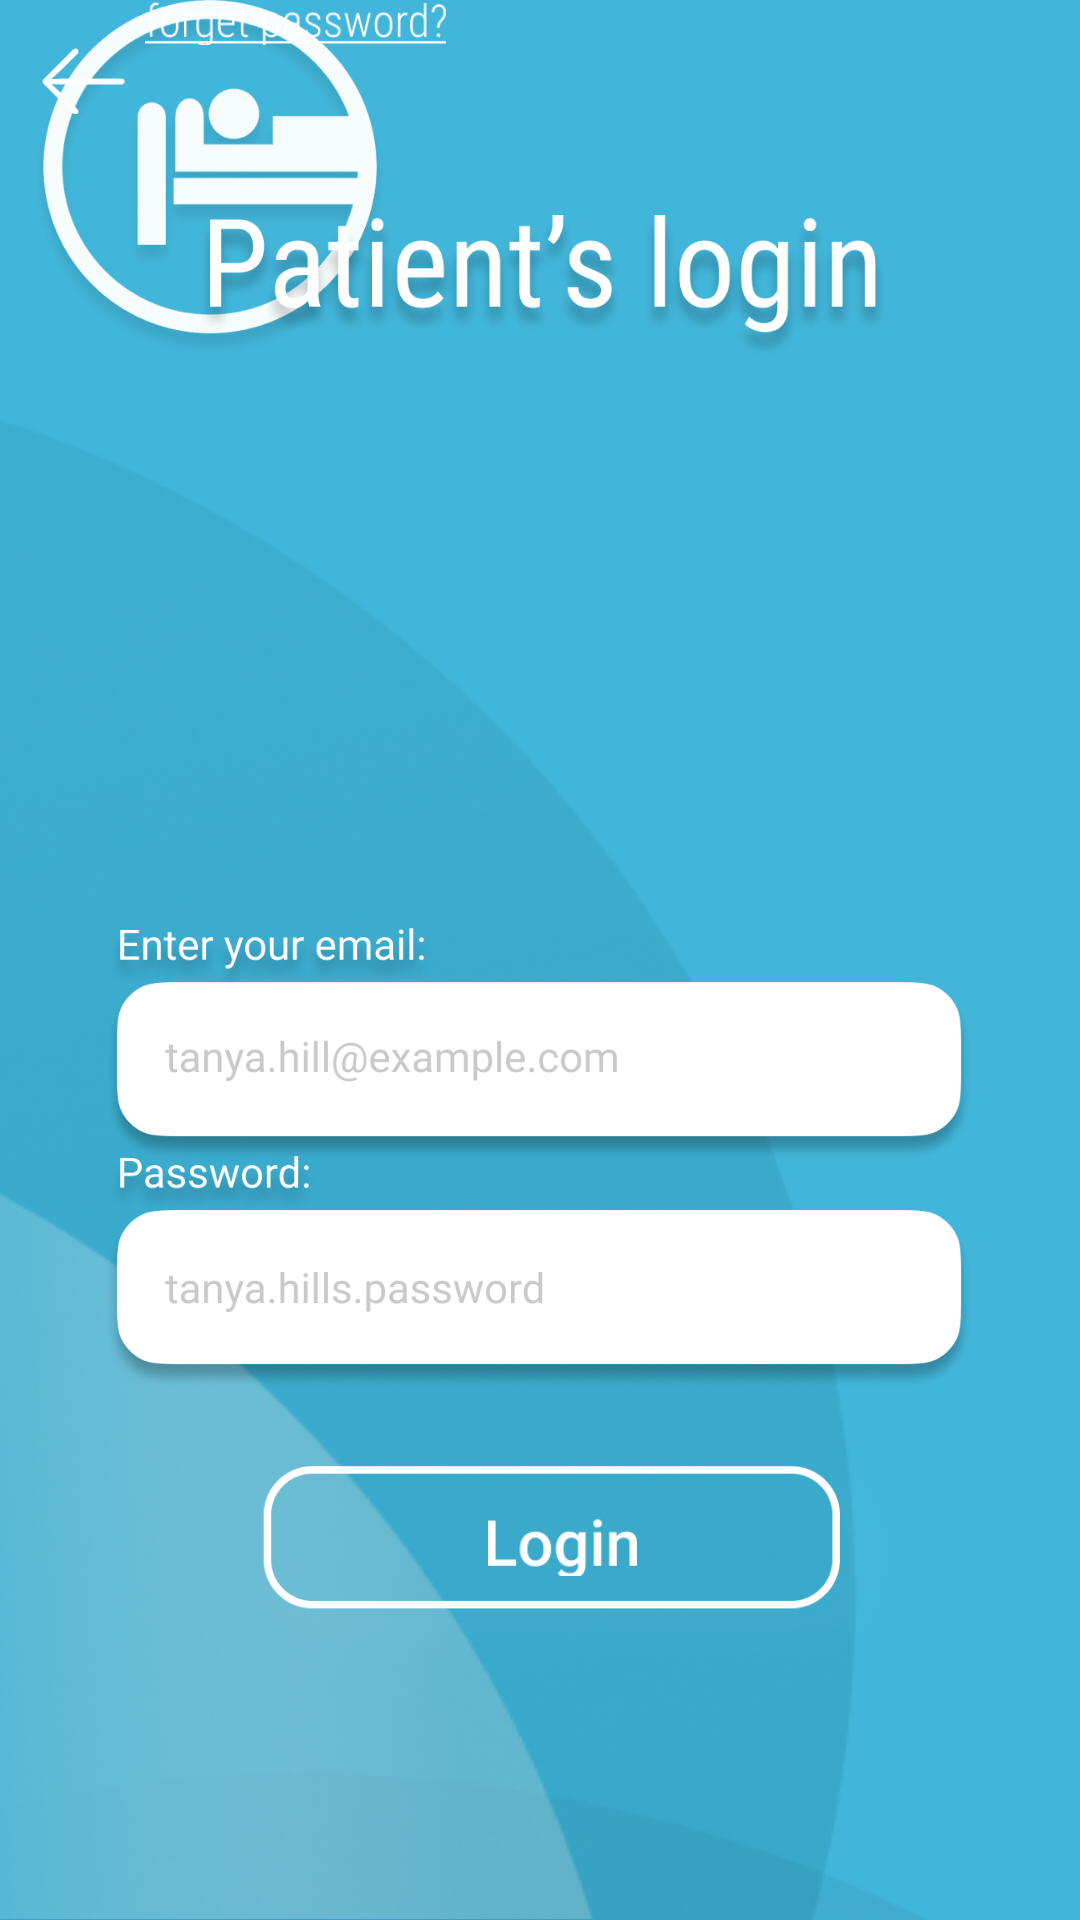

Where to tap for icons on this 1080 × 1920 app screen, as (x=x, y=y):
arrrw: (x=83, y=80)
